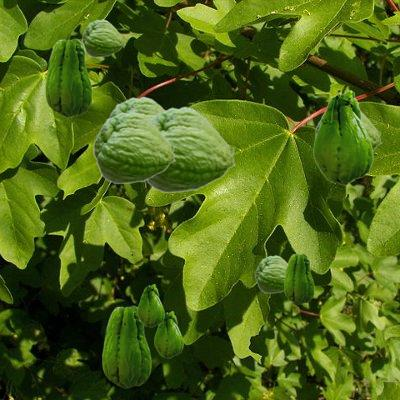sayote: (146, 106, 235, 192), (93, 111, 175, 183), (313, 90, 372, 184), (102, 305, 150, 387), (45, 38, 91, 116), (315, 110, 381, 151), (82, 19, 124, 56), (284, 253, 313, 303), (108, 96, 165, 119), (154, 311, 182, 357), (255, 255, 286, 292), (137, 284, 163, 326)
